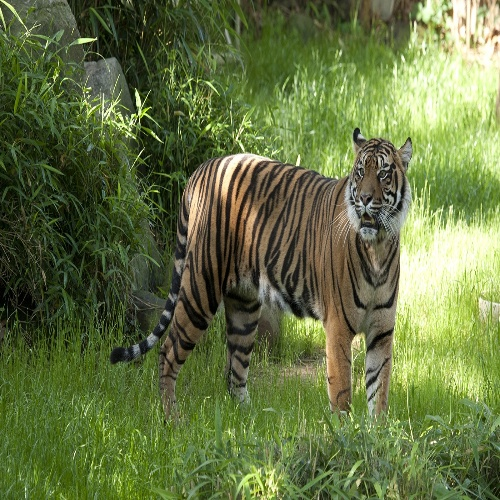tiger: (74, 102, 500, 435)
